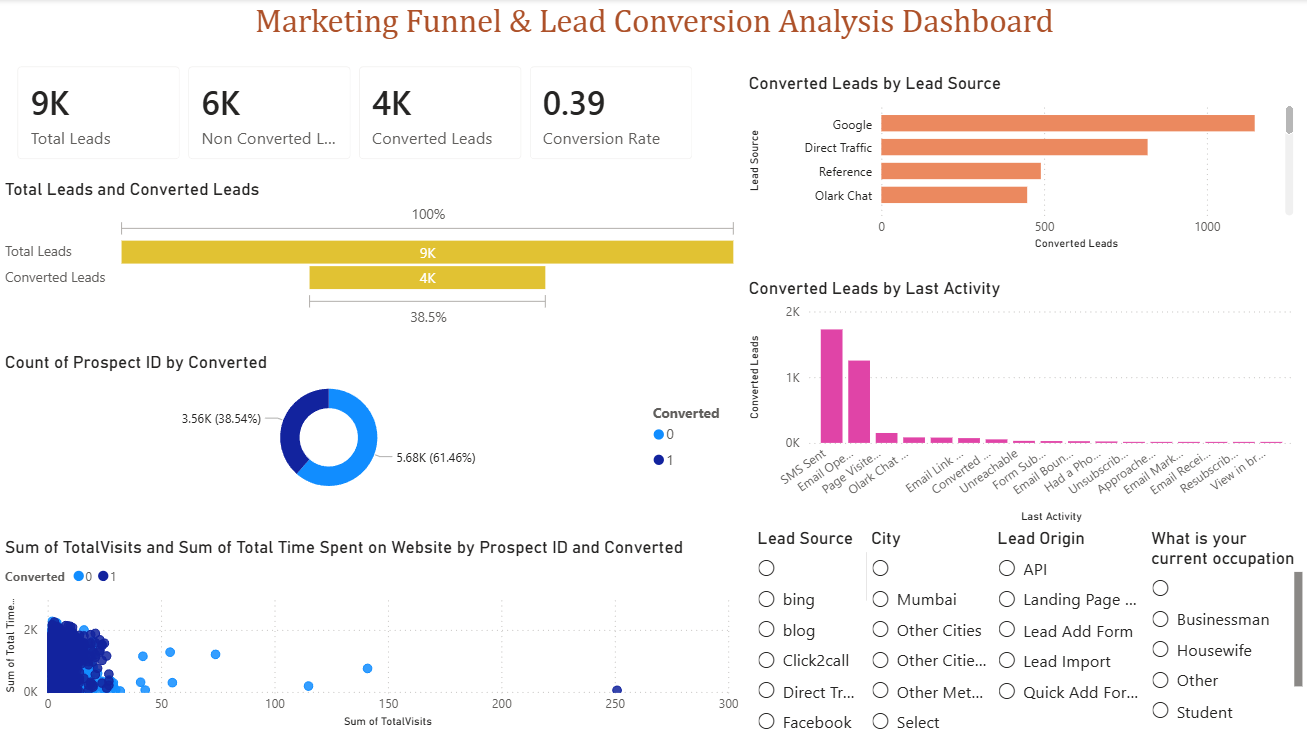

Layout of this report page (visuals, bound fields, positions):
{"tool":"powerbi","page":{"name":"Page 1","canvas":[1280,720],"ordinal":0},"visuals":[{"type":"cardVisual","fields":{"Data":["Lead Scoring.Total Leads","Lead Scoring.Non Converted Leads","Lead Scoring.Converted Leads","Lead Scoring.Conversion Rate"]},"box":[0,48.9,695.8,126],"z":0},{"type":"funnel","fields":{"Y":["Lead Scoring.Total Leads","Lead Scoring.Converted Leads"]},"box":[0,176.1,727.6,149.2],"z":1000},{"type":"donutChart","fields":{"Category":["Lead Scoring.Converted"],"Y":["CountNonNull(Lead Scoring.Prospect ID)"]},"box":[0,344.8,727.6,149.2],"z":2000},{"type":"barChart","fields":{"Category":["Lead Scoring.Lead Source"],"Y":["Lead Scoring.Converted Leads"]},"box":[727.6,72.1,542.9,178.5],"z":3000},{"type":"columnChart","fields":{"Category":["Lead Scoring.Last Activity"],"Y":["Lead Scoring.Converted Leads"]},"box":[727.6,272.7,542.9,244.6],"z":4000},{"type":"scatterChart","fields":{"Category":["Lead Scoring.Prospect ID"],"X":["Sum(Lead Scoring.TotalVisits)"],"Series":["Lead Scoring.Converted"],"Y":["Sum(Lead Scoring.Total Time Spent on Website)"]},"box":[0,525.8,727.6,192],"z":5000},{"type":"listSlicer","fields":{"Values":["Lead Scoring.Lead Source"]},"box":[736.1,517.3,124.7,203],"z":6000},{"type":"listSlicer","fields":{"Values":["Lead Scoring.City"]},"box":[847.4,517.3,139.4,203],"z":7000},{"type":"listSlicer","fields":{"Values":["Lead Scoring.Lead Origin"]},"box":[970.9,517.3,150.4,203],"z":8000},{"type":"listSlicer","fields":{"Values":["Lead Scoring.What is your current occupation"]},"box":[1121.3,517.3,159,203],"z":9000},{"type":"textbox","box":[0,0,1280.3,48.9],"z":10000}]}

Visuals, with their boxes in screenshot pixels (x1, y1, x2, y2), scaled from the page's 1280x720 canvas onto the 1307x734 screenshot:
cardVisual - Lead Scoring.Total Leads x Lead Scoring.Non Converted Leads: (0,50,710,178)
funnel - Lead Scoring.Total Leads x Lead Scoring.Converted Leads: (0,180,743,332)
donutChart - Lead Scoring.Converted x CountNonNull(Lead Scoring.Prospect ID): (0,352,743,504)
barChart - Lead Scoring.Lead Source x Lead Scoring.Converted Leads: (743,74,1297,255)
columnChart - Lead Scoring.Last Activity x Lead Scoring.Converted Leads: (743,278,1297,527)
scatterChart - Lead Scoring.Prospect ID x Sum(Lead Scoring.TotalVisits): (0,536,743,732)
listSlicer - Lead Scoring.Lead Source: (752,527,879,733)
listSlicer - Lead Scoring.City: (865,527,1008,733)
listSlicer - Lead Scoring.Lead Origin: (991,527,1145,733)
listSlicer - Lead Scoring.What is your current occupation: (1145,527,1306,733)
textbox: (0,0,1306,50)
